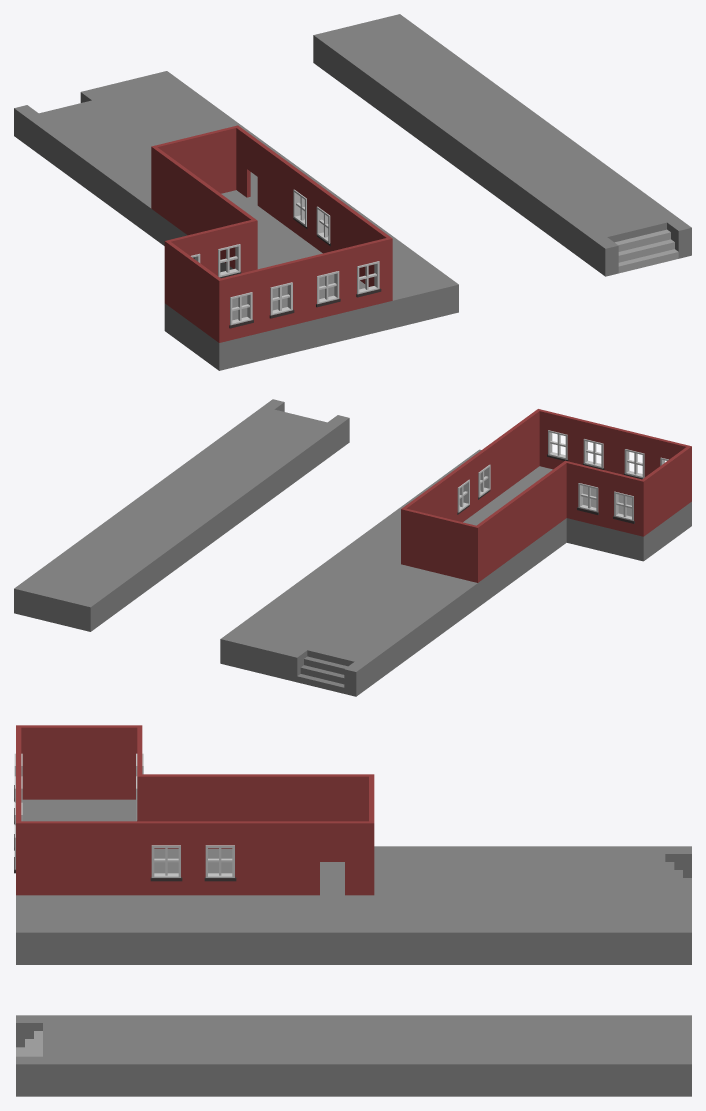
File: Train_Station (2).fbx
The picture shows the model from 3 angles, top to bottom: view 1: azimuth 30°, elevation 25°; view 2: azimuth 150°, elevation 25°; view 3: azimuth 270°, elevation 25°; orthographic projection. The views are drawn at different scales.
Visible parts, largest first — view 1: polySurface585; view 2: polySurface585; view 3: polySurface585.
Part boxes in pixels (x1,y1,x2,y2): polySurface585: (14, 14, 691, 370); polySurface585: (14, 399, 691, 696); polySurface585: (14, 725, 691, 1096).
Size of the model in its own units: 17.76 by 3.23 by 19.06.
